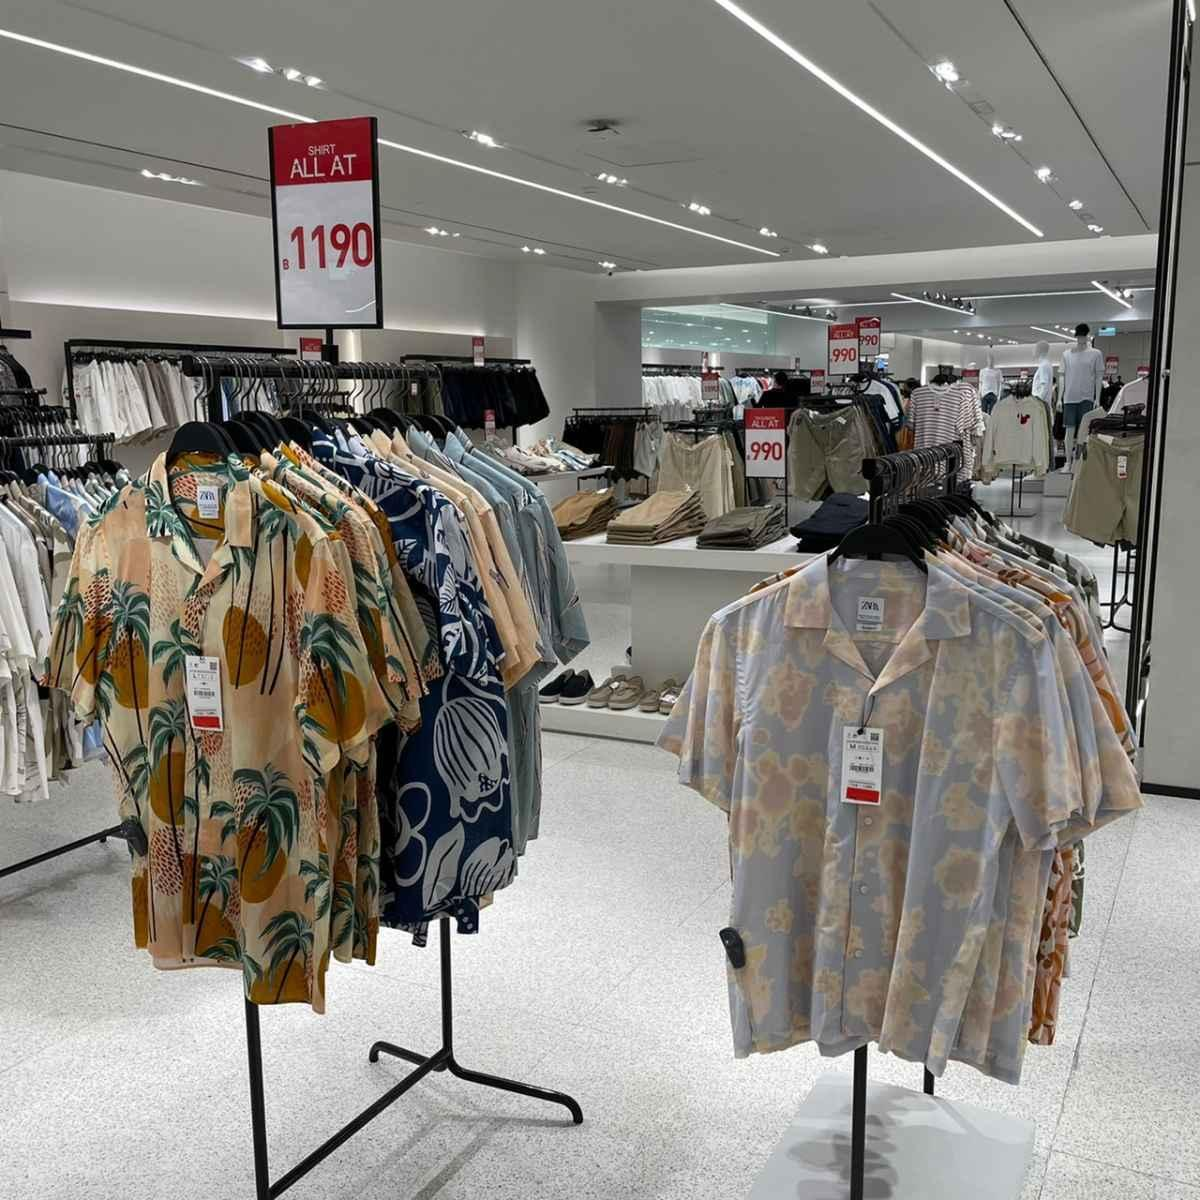shirt: (678, 563, 1075, 1054), (48, 496, 387, 982)
